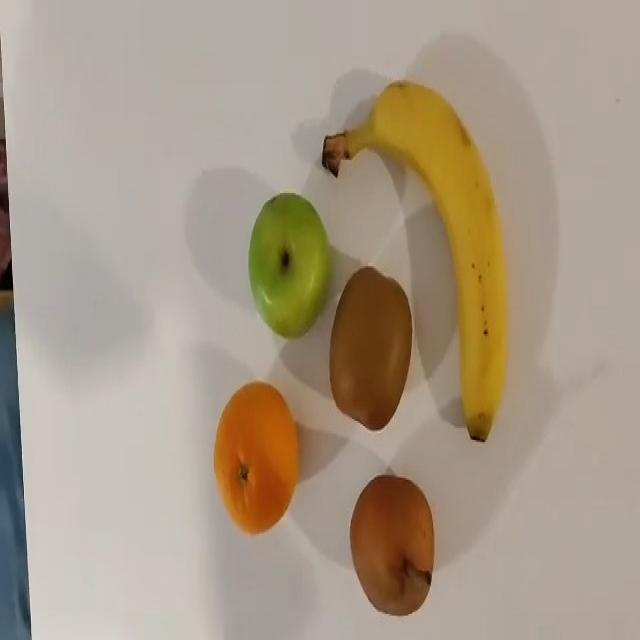Apple: (247, 192, 331, 339)
Banana: (321, 79, 509, 442)
Orange: (213, 380, 300, 534)
